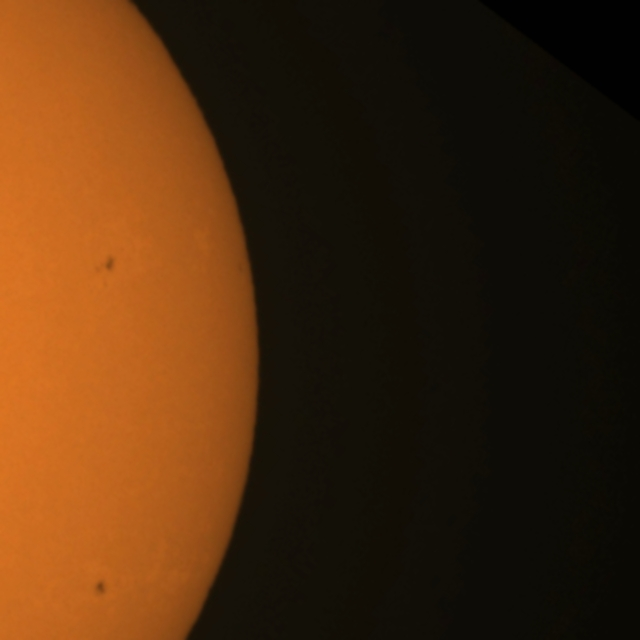sunspot: (94, 254, 117, 290), (92, 578, 108, 599)
